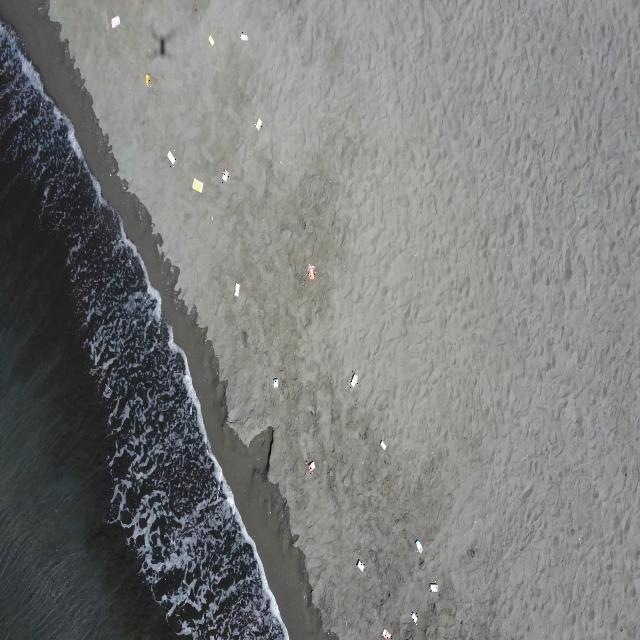Garbage: (192, 178, 203, 192), (307, 263, 315, 279), (167, 151, 175, 166), (350, 372, 357, 387), (307, 460, 315, 473), (382, 628, 391, 639), (356, 559, 364, 571), (415, 539, 422, 552), (143, 72, 150, 85), (111, 16, 119, 27), (428, 583, 437, 592), (233, 283, 239, 296), (255, 118, 261, 129), (272, 376, 278, 387), (411, 611, 416, 624), (223, 169, 228, 181), (207, 33, 212, 45), (240, 32, 247, 40), (380, 440, 386, 449)
